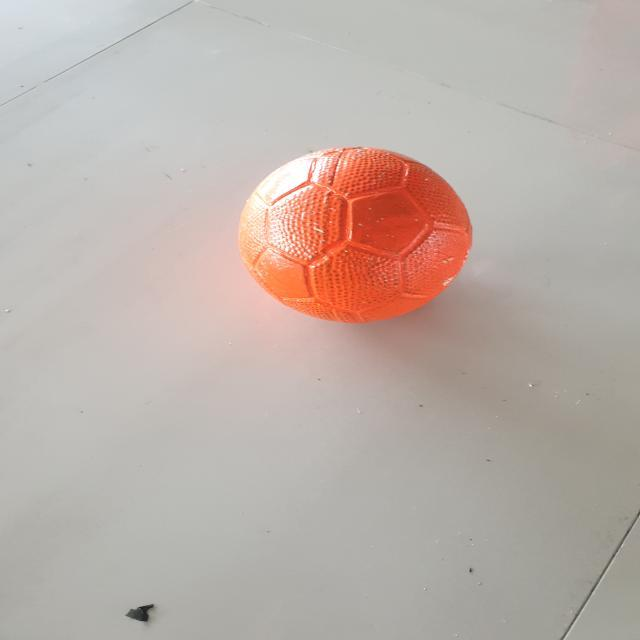bola: (232, 142, 481, 331)
